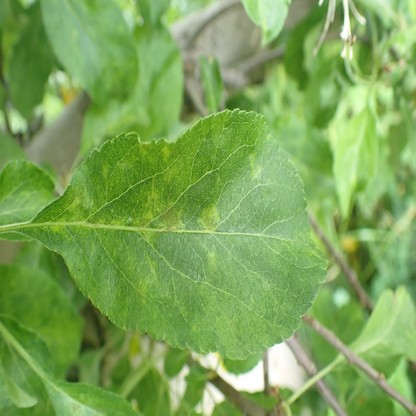scab: (195, 287, 238, 340), (67, 178, 96, 211), (134, 193, 160, 229), (139, 260, 159, 297), (160, 203, 185, 232), (200, 204, 221, 229), (249, 151, 261, 180), (206, 246, 216, 267)
